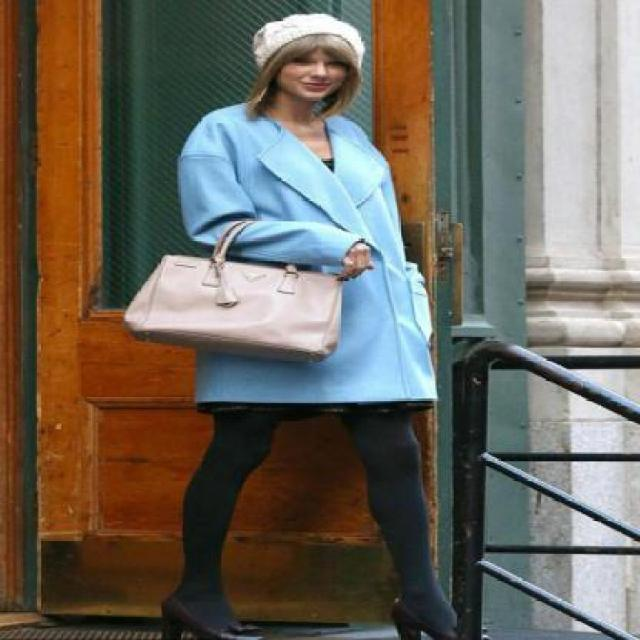Person: (120, 10, 469, 639)
